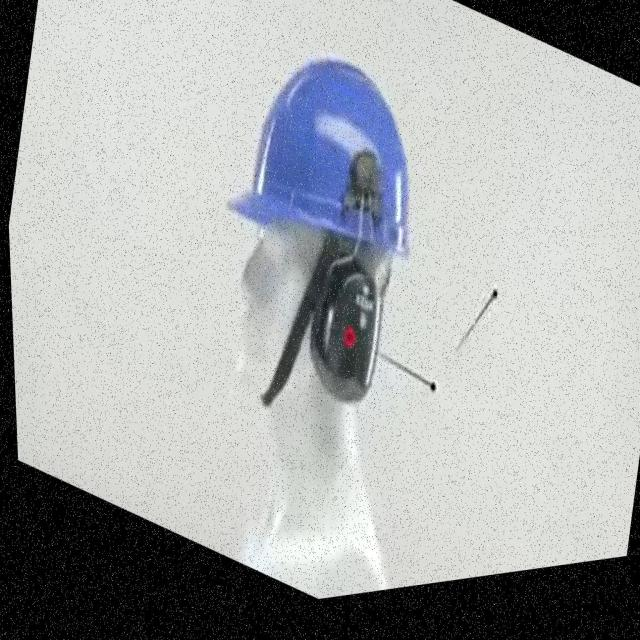Earmuffs: (311, 259, 381, 401)
Hardhat: (230, 59, 409, 255)
